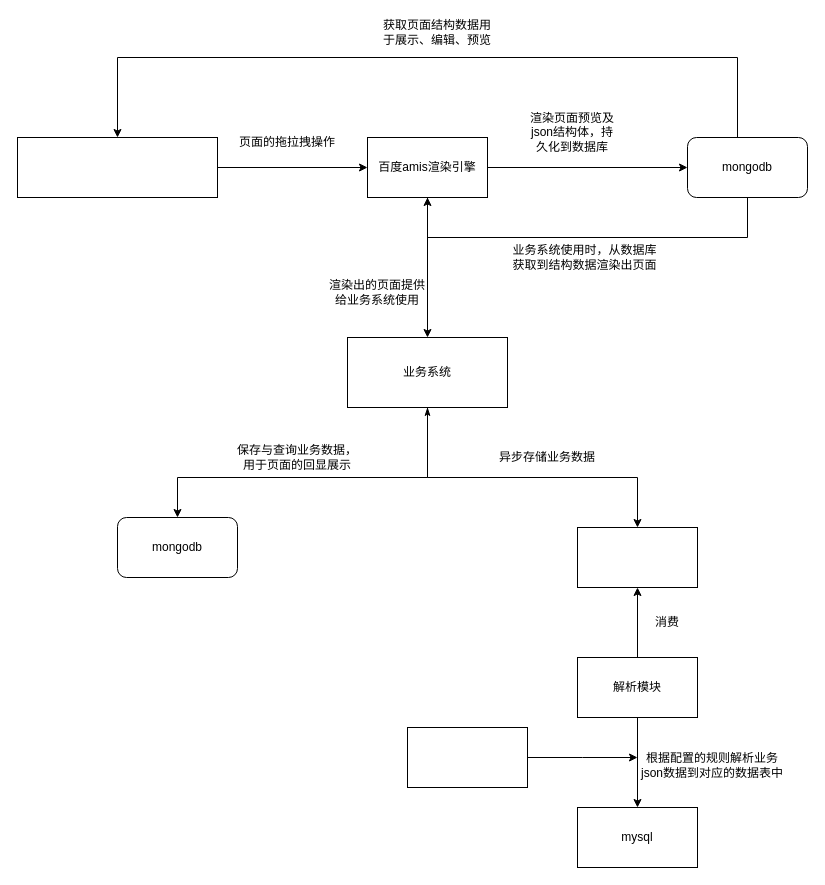
This 825x885 diagram has some shape labels left out. Here are the shapes that lost their labels. From the top down, the centre of each, then its label:
the point at 117,167: 可视化编辑器
the point at 637,557: kafka
the point at 467,757: 配置的规则
